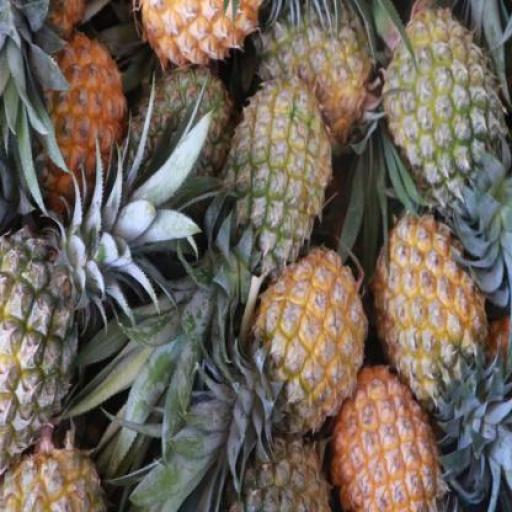------------------------------: (383, 0, 502, 214), (222, 79, 328, 275), (0, 232, 80, 490), (258, 5, 376, 148)
Pineapple - v8 v1: (373, 212, 482, 407), (254, 247, 360, 431), (330, 365, 444, 512)
